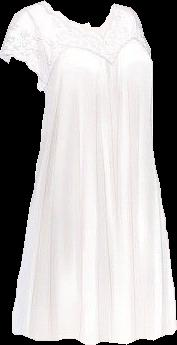Bodice: (23, 1, 152, 144)
Hemline: (10, 328, 176, 344)
Neckline: (46, 38, 150, 77), (43, 0, 115, 28)
Skirt: (12, 145, 176, 344)
Sleeve: (0, 9, 46, 95)
Sleeveline: (22, 8, 49, 77)
